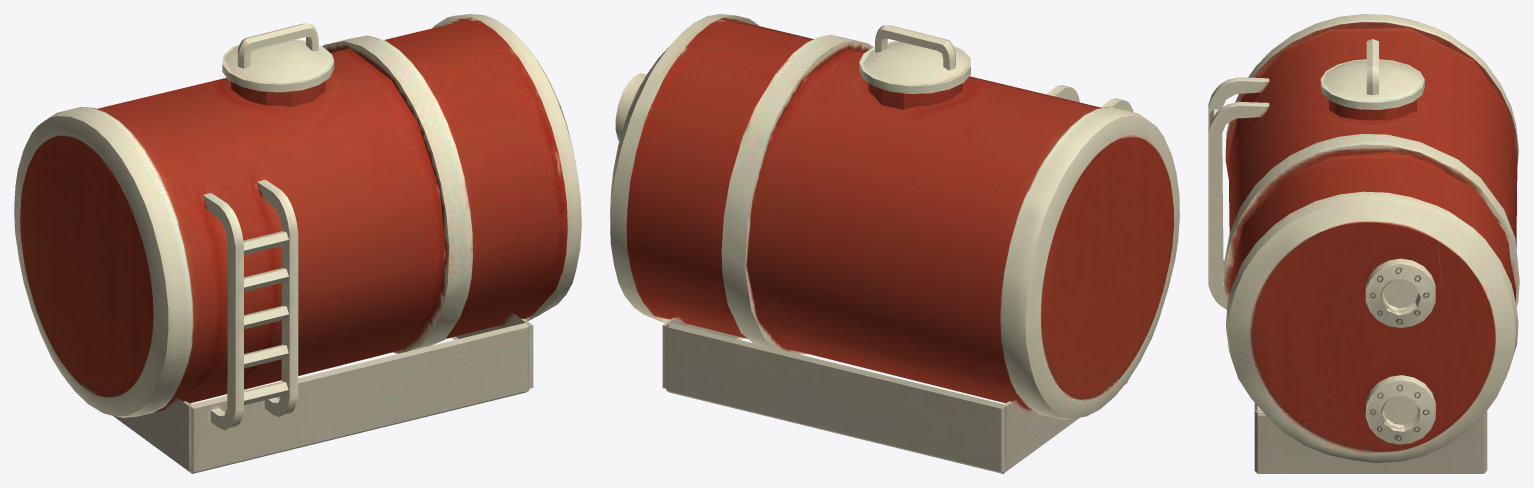
Rendered from wl_tank_horizontal.glb.
3 renders of one model, left to right at view 1: azimuth 30°, elevation 25°; view 2: azimuth 150°, elevation 25°; view 3: azimuth 270°, elevation 25°, orthographic. The views are drawn at different scales.
Visible parts, largest first — view 1: wl_tank_horizontal; view 2: wl_tank_horizontal; view 3: wl_tank_horizontal.
Boxes of the visible parts, x1,y1,x2,y2 form: wl_tank_horizontal: (14,14,581,473); wl_tank_horizontal: (610,14,1179,473); wl_tank_horizontal: (1208,14,1519,473).
Bounding box in the file's own units: 4.66 × 3.5 × 2.94.
Materials: 1 (1 with a texture image).
